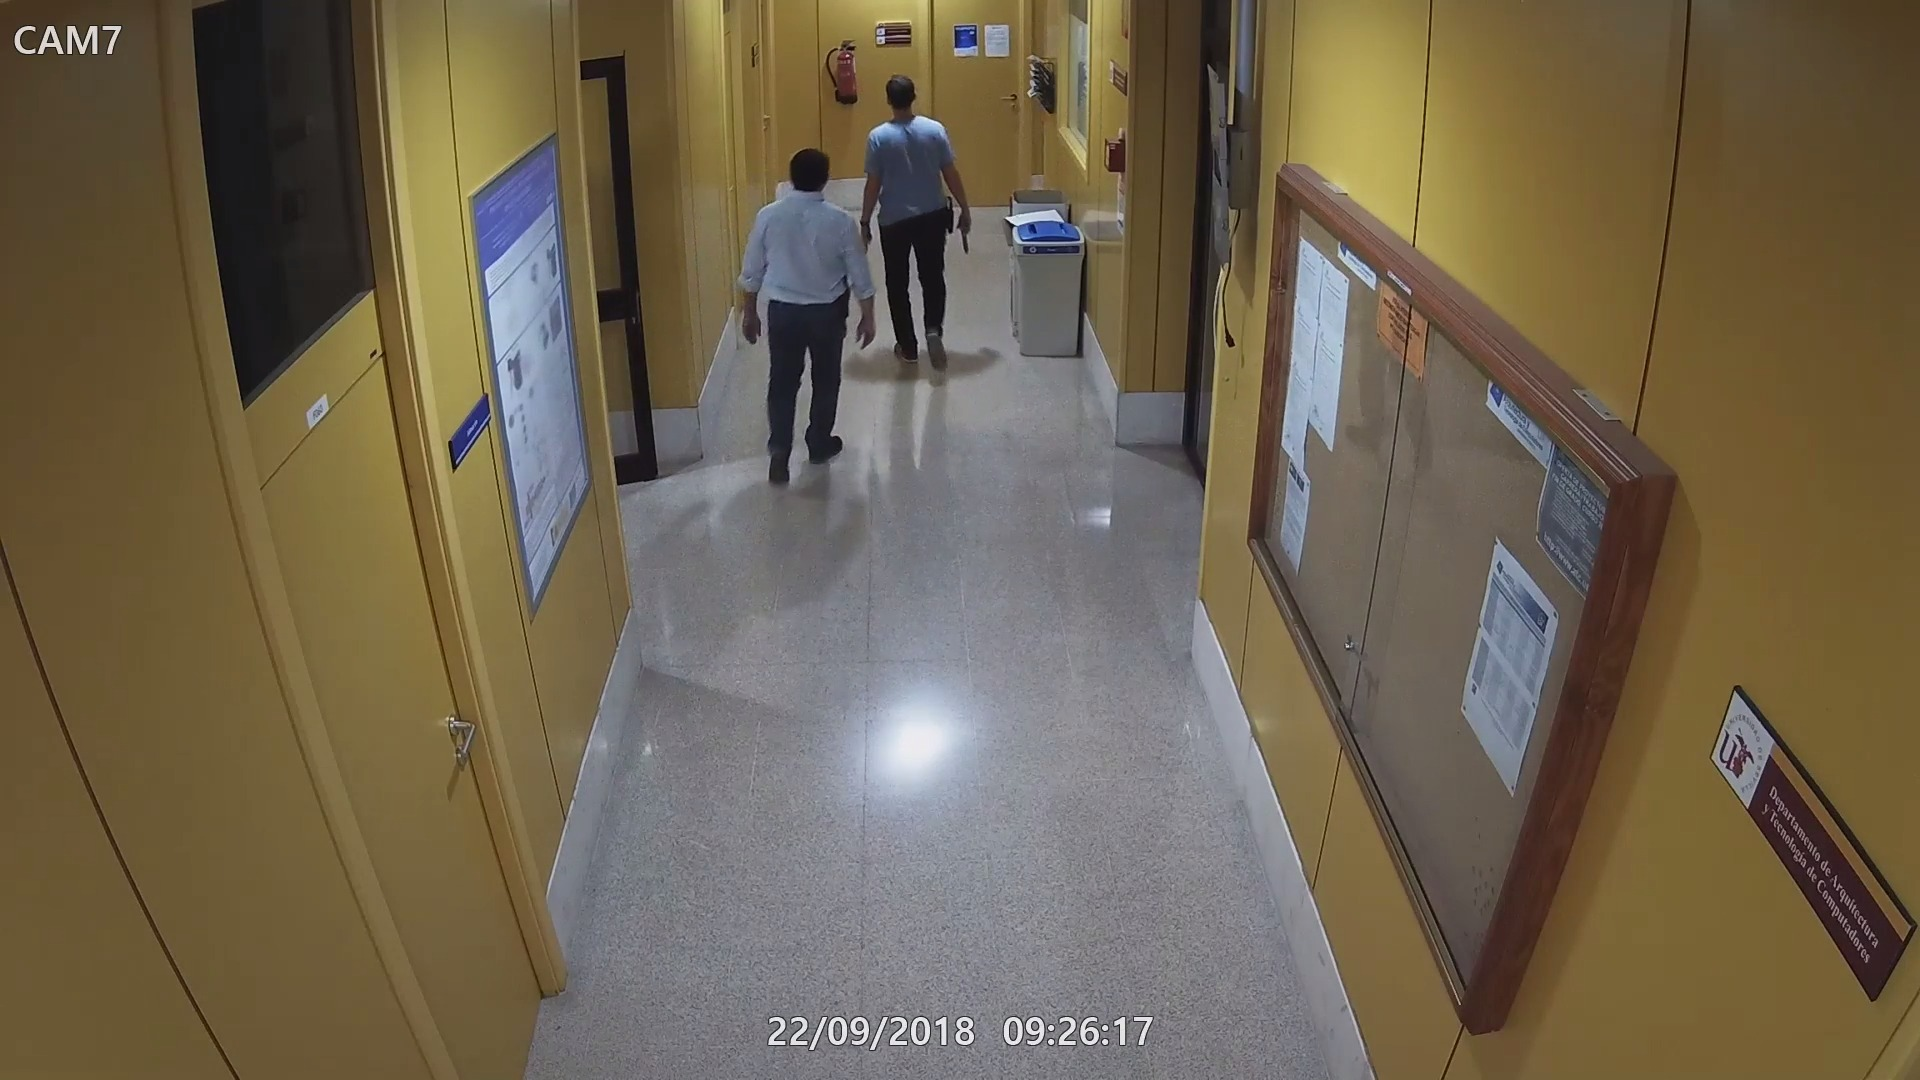Handgun: (831, 269, 858, 319), (952, 208, 978, 252)
